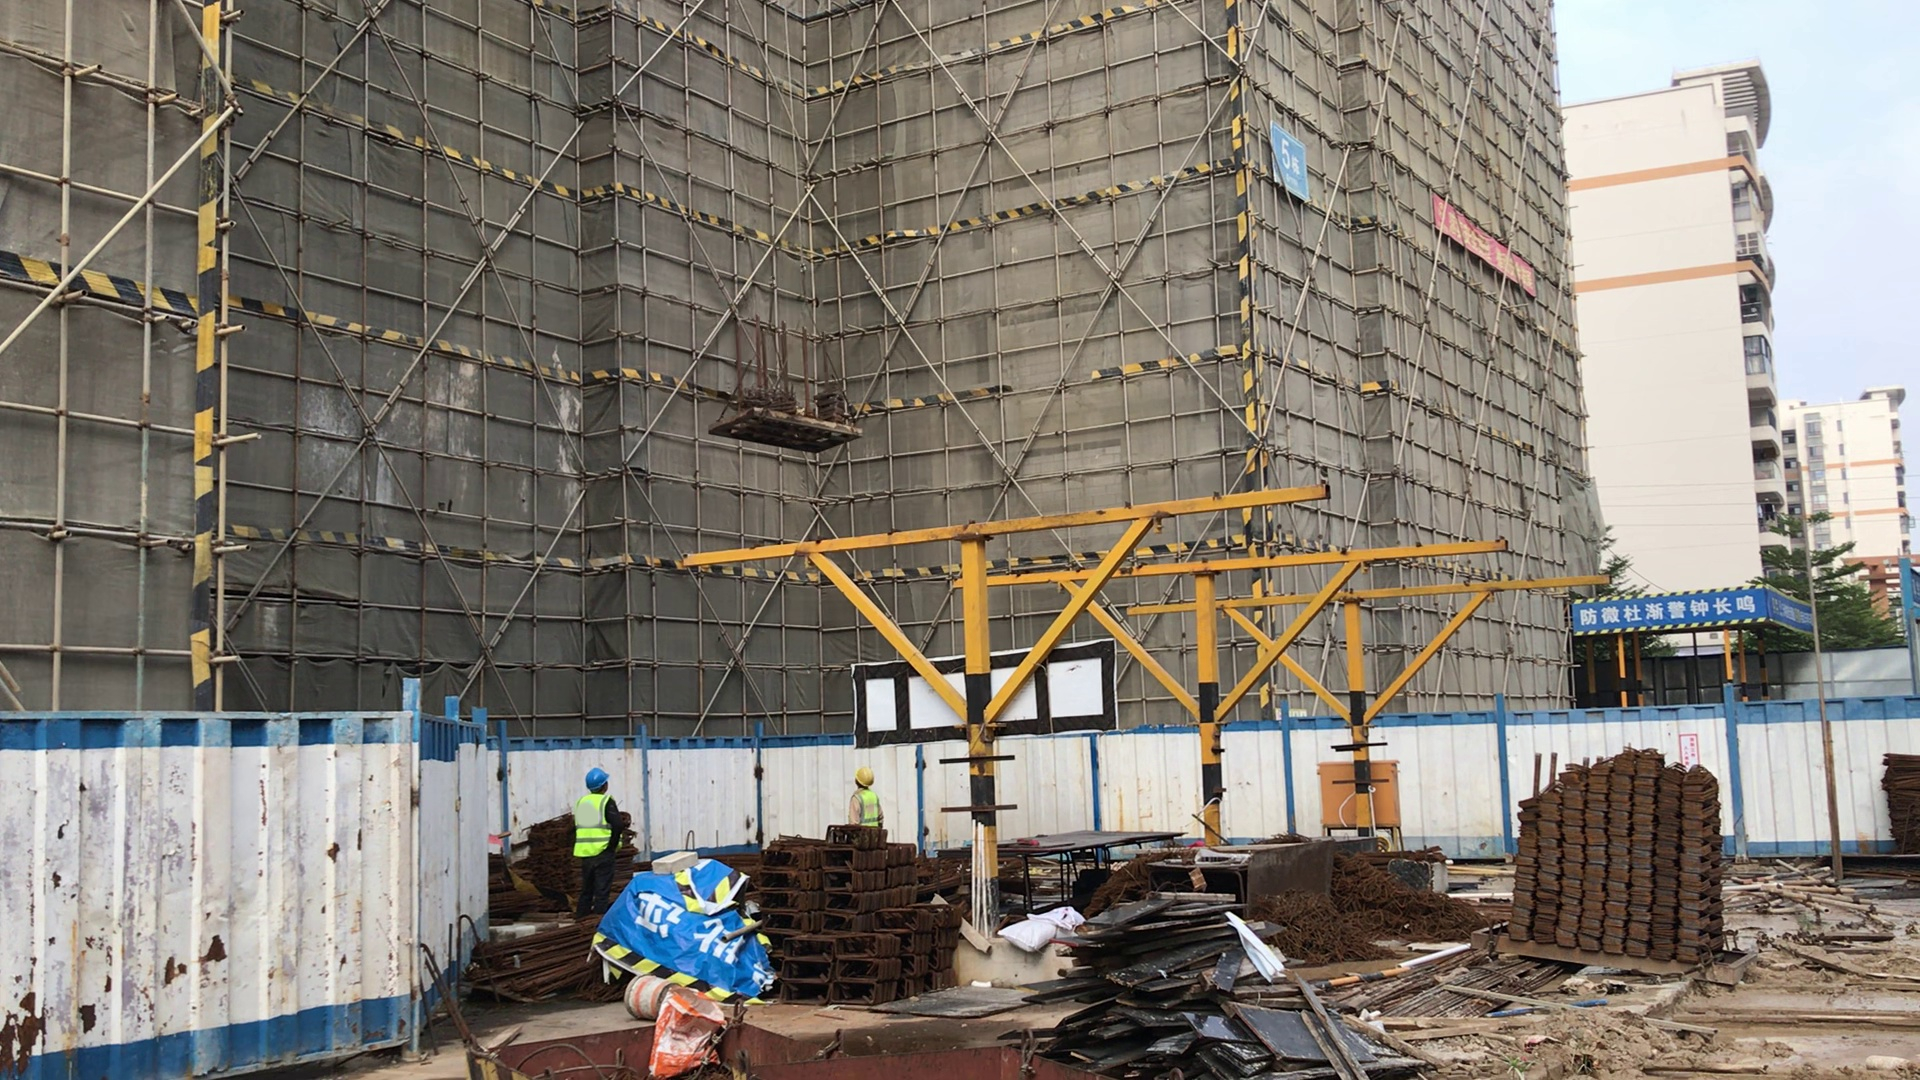ebox: (1319, 764, 1408, 830)
helmet: (583, 763, 610, 791), (851, 766, 878, 789)
person: (549, 760, 630, 911), (836, 768, 904, 845)
rebar: (461, 921, 622, 1015)
slogan: (1431, 192, 1535, 296), (1568, 589, 1760, 644)
vest: (573, 798, 612, 857), (852, 791, 883, 826)
